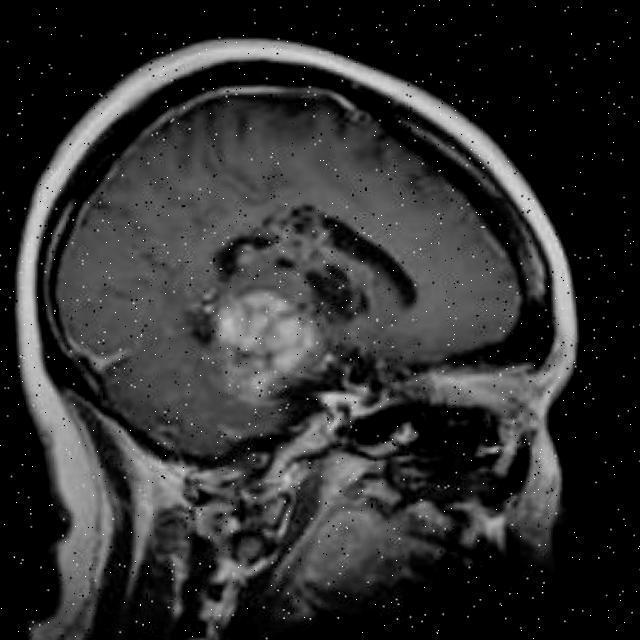MCI: (190, 272, 380, 419)
